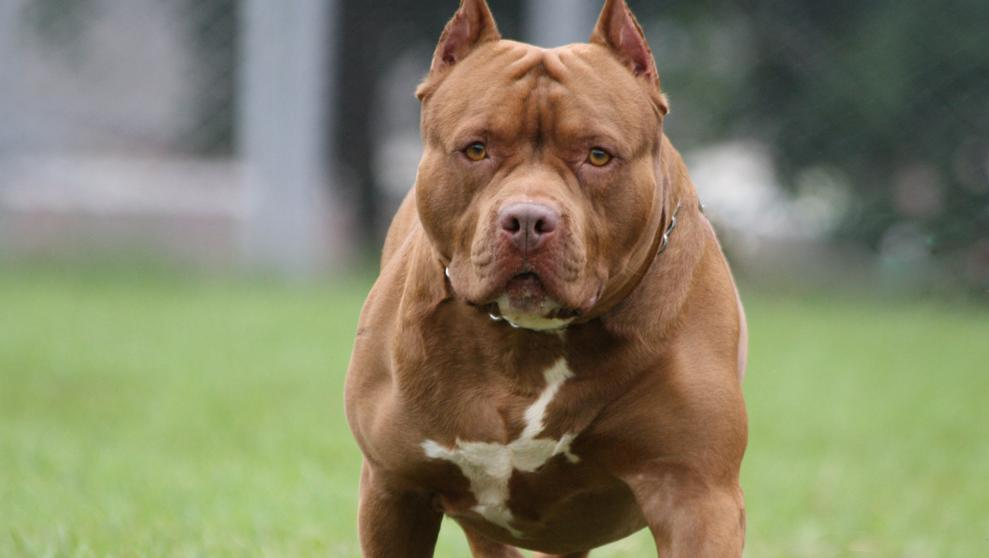Perro Pitbull: (346, 21, 770, 549)
